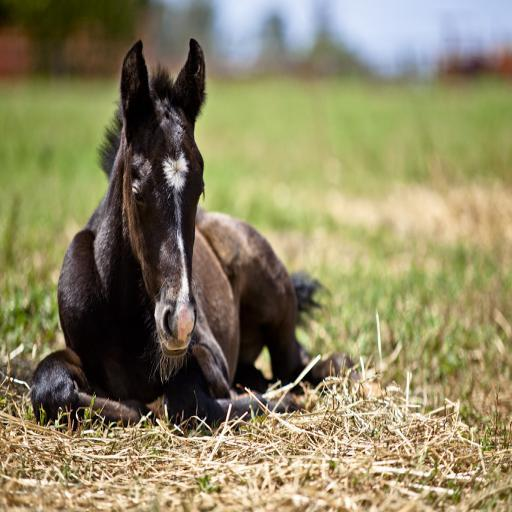horse: (28, 36, 334, 424)
